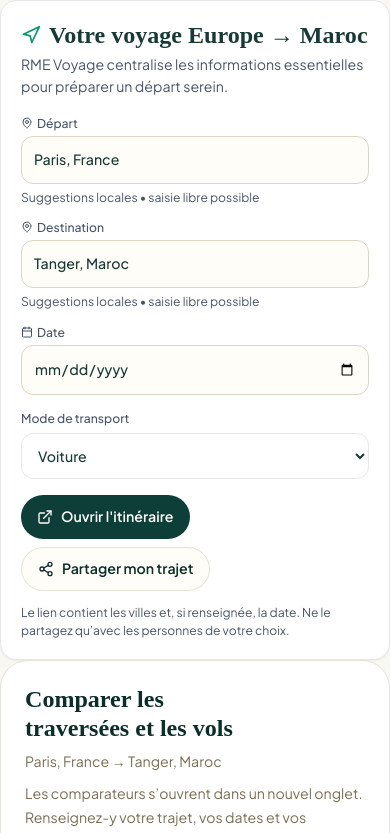
Test: RouteSearch › shows "Partage effectué" (not "Lien copié") when navigator.share succeeds
What coordinates should you click on to do the following:
click the button "Partager mon trajet"
I would click on:
 (116, 569)
Its box is [21,547,210,591].
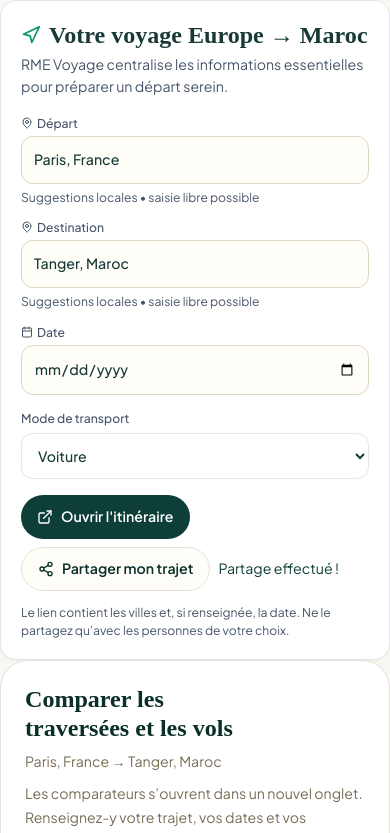
Expected: the text "Le lien contient les villes et, si renseignée, la date" is shown, [21,604,331,638]
Expected: the text "Partage effectué !" is shown, [218,559,339,577]
